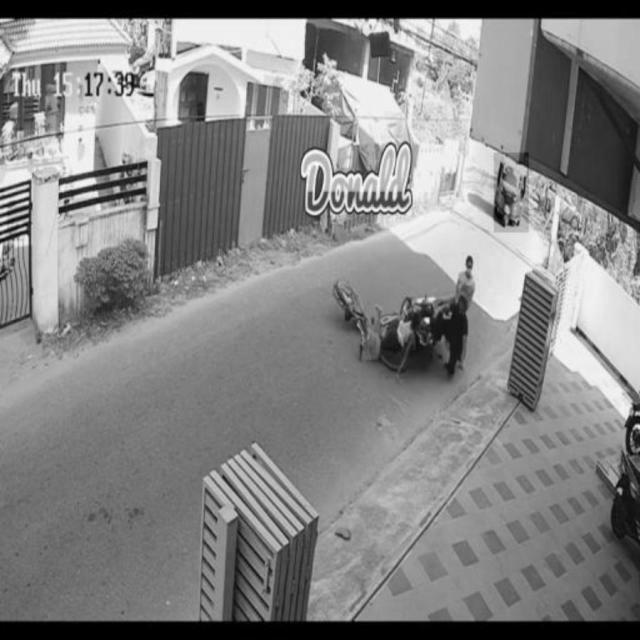accident: (335, 253, 479, 379)
vehicle: (494, 154, 529, 234)
